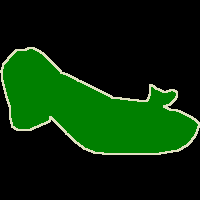shoe: (1, 48, 199, 154)
